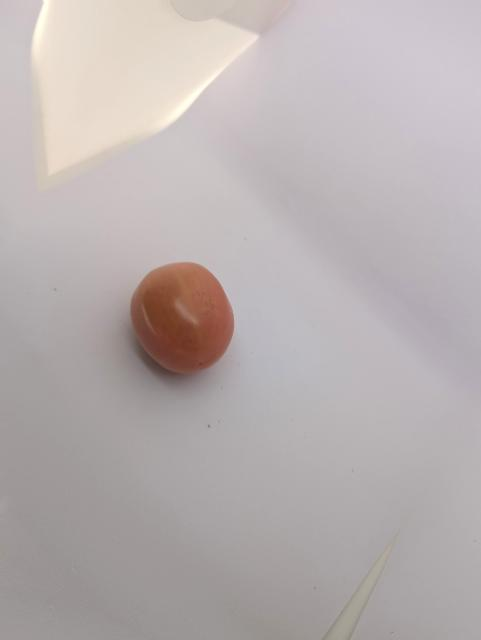turning: (123, 258, 247, 377)
